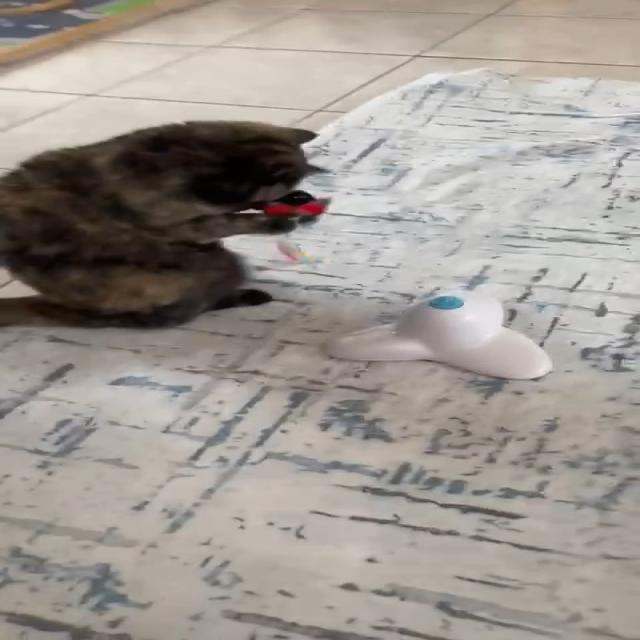authorized: (0, 118, 329, 329)
